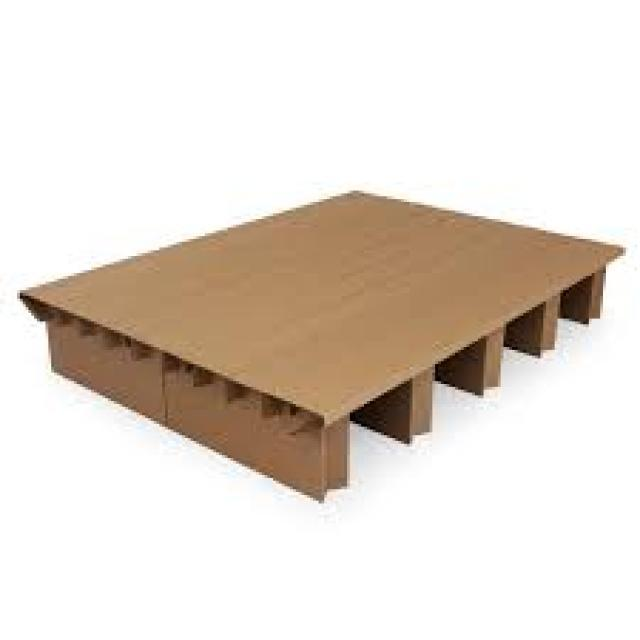Cardboard: (16, 182, 630, 500)
